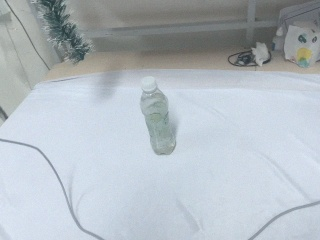bottle: (139, 76, 177, 156)
